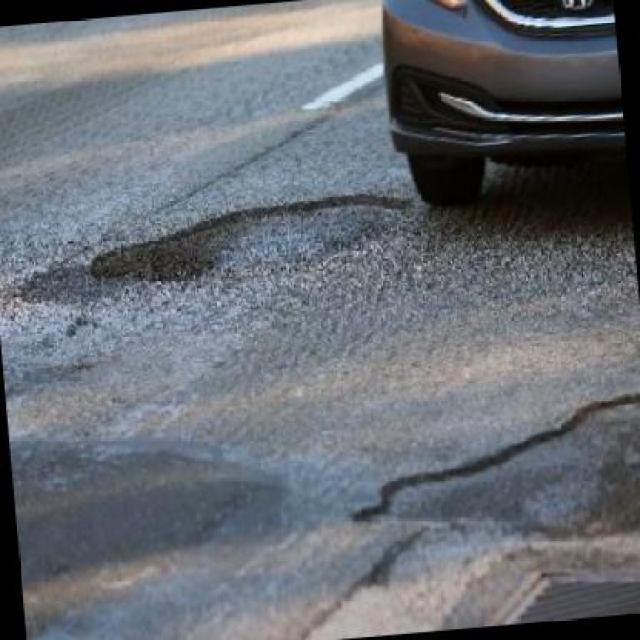pothole1: (342, 382, 638, 562), (84, 180, 418, 294)
